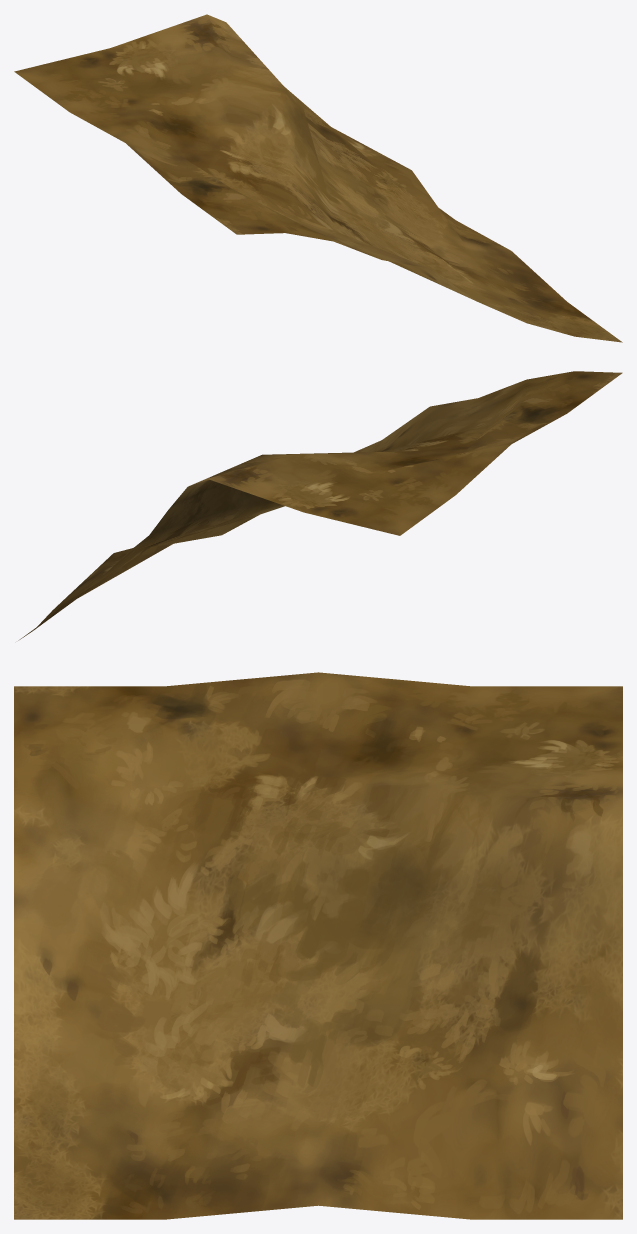
The model's file is Slope_Level_008.fbx.
3 views of the same model, one above another, from view 1: azimuth 30°, elevation 25°; view 2: azimuth 150°, elevation 25°; view 3: azimuth 270°, elevation 25° (orthographic). The views are drawn at different scales.
Parts seen in each view (by area): view 1: Slope_Level_008; view 2: Slope_Level_008; view 3: Slope_Level_008.
Boxes of the visible parts, left/top/right/bottom form: Slope_Level_008: left=14, top=14, right=622, bottom=342; Slope_Level_008: left=18, top=371, right=622, bottom=640; Slope_Level_008: left=14, top=672, right=622, bottom=1219.
Bounding box in the file's own units: 10 × 5.25 × 10.
1 material, 1 textured.
